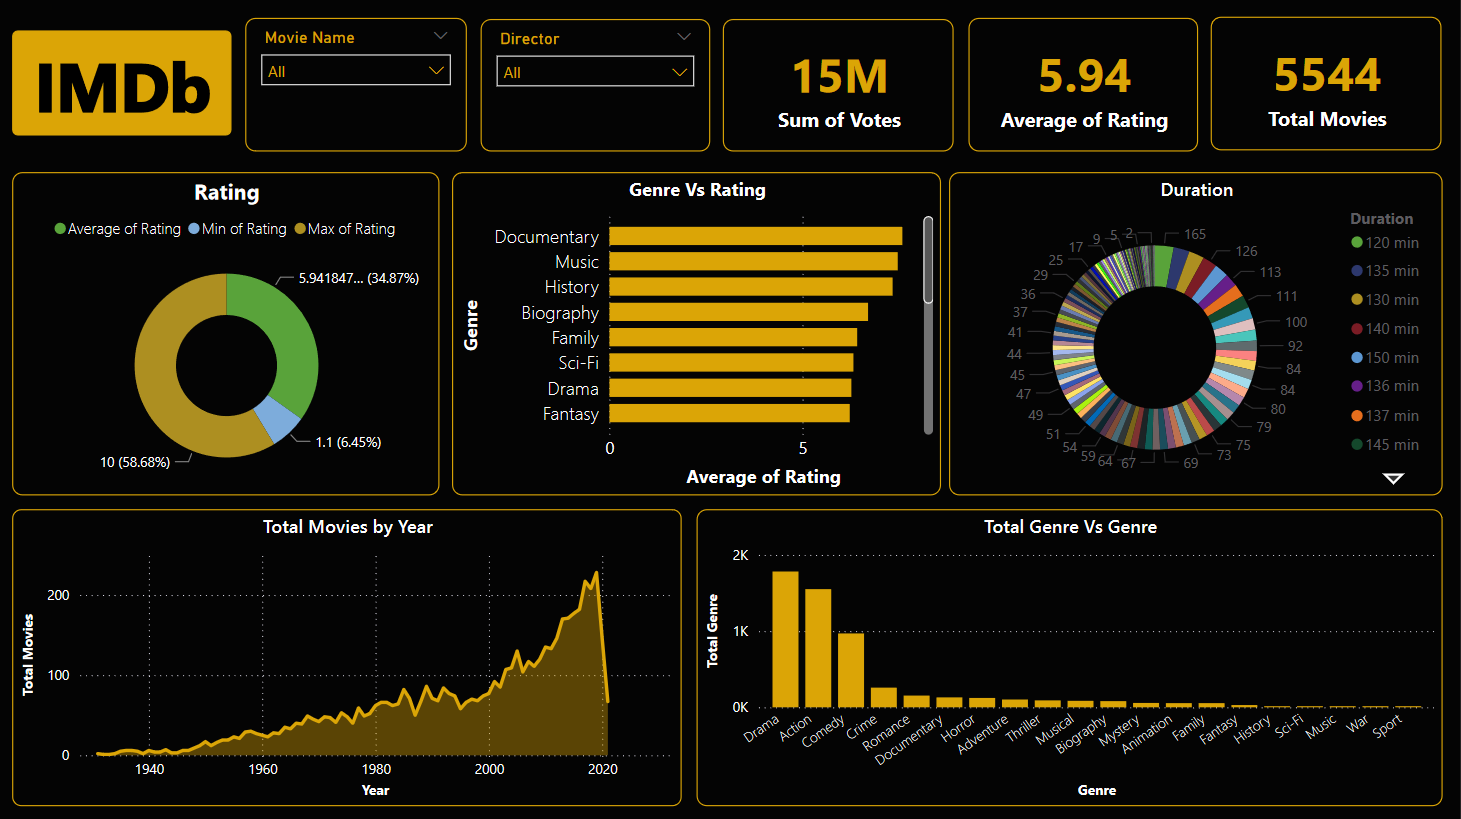

This screenshot's page, from the dashboard's own definition file:
{"tool":"powerbi","page":{"name":"Page 2","canvas":[1280,720],"ordinal":0},"visuals":[{"type":"card","fields":{"Values":["CountNonNull(IMDb Movies India.Name)"]},"box":[1061.4,15.7,201.4,117.1],"z":0},{"type":"card","fields":{"Values":["Avg(IMDb Movies India.Rating)"]},"box":[848.6,17.1,201.4,117.1],"z":1000},{"type":"card","fields":{"Values":["Sum(IMDb Movies India.Votes)"]},"box":[634.2,17.5,201.7,116.7],"z":2000},{"type":"slicer","fields":{"Values":["IMDb Movies India.Director"]},"box":[421.8,17.6,201.4,116.3],"z":3000},{"type":"slicer","fields":{"Values":["IMDb Movies India.Name"]},"box":[215.7,17.1,194.3,117.1],"z":4000},{"type":"stackedAreaChart","fields":{"Category":["IMDb Movies India.Year"],"Y":["CountNonNull(IMDb Movies India.Name)"]},"box":[12.3,447.3,585.9,259.3],"z":5000},{"type":"donutChart","title":"Rating","fields":{"Y":["Avg(IMDb Movies India.Rating)","Min(IMDb Movies India.Rating)","Max(IMDb Movies India.Rating)"]},"box":[12.3,152.3,373.2,282.7],"z":6000},{"type":"barChart","title":"Sum of Votes Vs Rating","fields":{"Category":["IMDb Movies India.Genre"],"Y":["Avg(IMDb Movies India.Rating)"]},"box":[396.6,152.3,428.1,282.7],"z":7000},{"type":"donutChart","fields":{"Y":["CountNonNull(IMDb Movies India.Duration)"],"Category":["IMDb Movies India.Duration"]},"box":[831.6,152.3,432.2,282.7],"z":8000},{"type":"clusteredColumnChart","title":"Total Genre Vs Genre","fields":{"Category":["IMDb Movies India.Genre"],"Y":["CountNonNull(IMDb Movies India.Genre)"]},"box":[610.6,447.3,653.2,259.3],"z":9000},{"type":"textbox","box":[12.2,28.4,192,91.9],"z":10000}]}

Visuals, with their boxes in screenshot pixels (x1, y1, x2, y2), scaled from the page's 1280x720 canvas onto the 1461x819 screenshot:
card - CountNonNull(IMDb Movies India.Name): region(1211, 18, 1441, 151)
card - Avg(IMDb Movies India.Rating): region(969, 19, 1198, 153)
card - Sum(IMDb Movies India.Votes): region(724, 20, 954, 153)
slicer - IMDb Movies India.Director: region(481, 20, 711, 152)
slicer - IMDb Movies India.Name: region(246, 19, 468, 153)
stackedAreaChart - IMDb Movies India.Year x CountNonNull(IMDb Movies India.Name): region(14, 509, 683, 804)
"Rating" donutChart: region(14, 173, 440, 495)
"Sum of Votes Vs Rating" barChart: region(453, 173, 941, 495)
donutChart - CountNonNull(IMDb Movies India.Duration) x IMDb Movies India.Duration: region(949, 173, 1443, 495)
"Total Genre Vs Genre" clusteredColumnChart: region(697, 509, 1443, 804)
textbox: region(14, 32, 233, 137)
